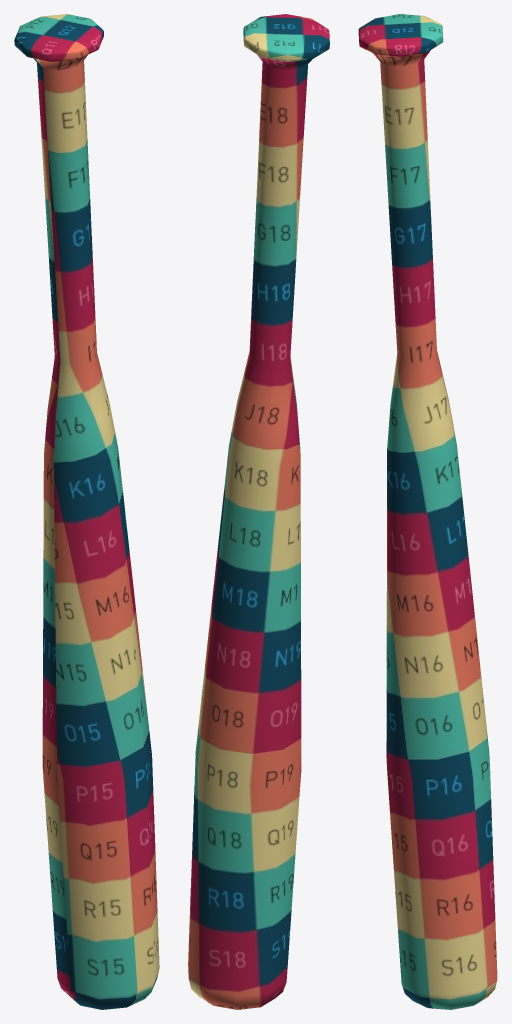
The model's file is baseball_bat.fbx.
The picture shows the model from 3 angles, left to right: view 1: azimuth 30°, elevation 25°; view 2: azimuth 150°, elevation 25°; view 3: azimuth 330°, elevation 25°; orthographic projection. The views are drawn at different scales.
Parts seen in each view (by area): view 1: pCylinder34; view 2: pCylinder34; view 3: pCylinder34.
Boxes of the visible parts, x1,y1,x2,y2 form: pCylinder34: (14, 14, 159, 1009); pCylinder34: (188, 14, 329, 1009); pCylinder34: (358, 14, 497, 1009).
Bounding box in the file's own units: 11.67 × 84.07 × 8.51.
